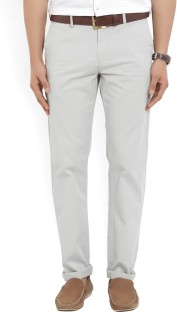Trousers: (39, 7, 160, 286)
